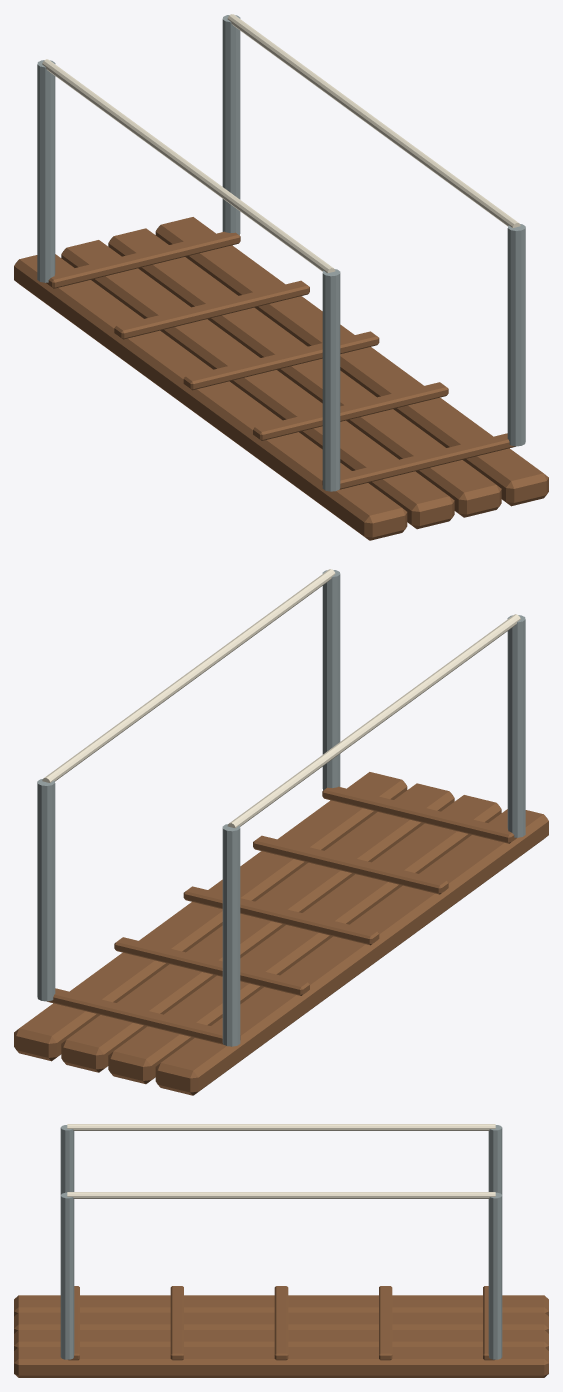
The model's file is Boarding_Plank.glb.
The picture shows the model from 3 angles, top to bottom: view 1: azimuth 30°, elevation 25°; view 2: azimuth 150°, elevation 25°; view 3: azimuth 270°, elevation 25°; orthographic projection. The views are drawn at different scales.
Parts seen in each view (by area): view 1: Boarding_Plank; view 2: Boarding_Plank; view 3: Boarding_Plank.
Boxes of the visible parts, x1,y1,x2,y2 form: Boarding_Plank: [14, 14, 548, 540]; Boarding_Plank: [14, 569, 548, 1095]; Boarding_Plank: [14, 1124, 548, 1377].
Bounding box in the file's own units: 0.5837 × 0.697 × 1.8.
